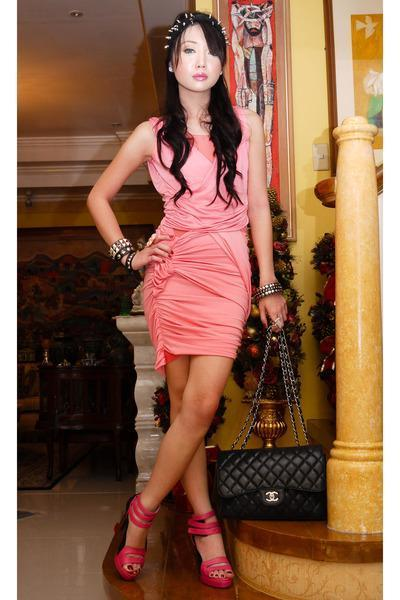bag: (228, 427, 335, 523)
dress: (135, 143, 251, 367)
shoe: (115, 495, 233, 586)
